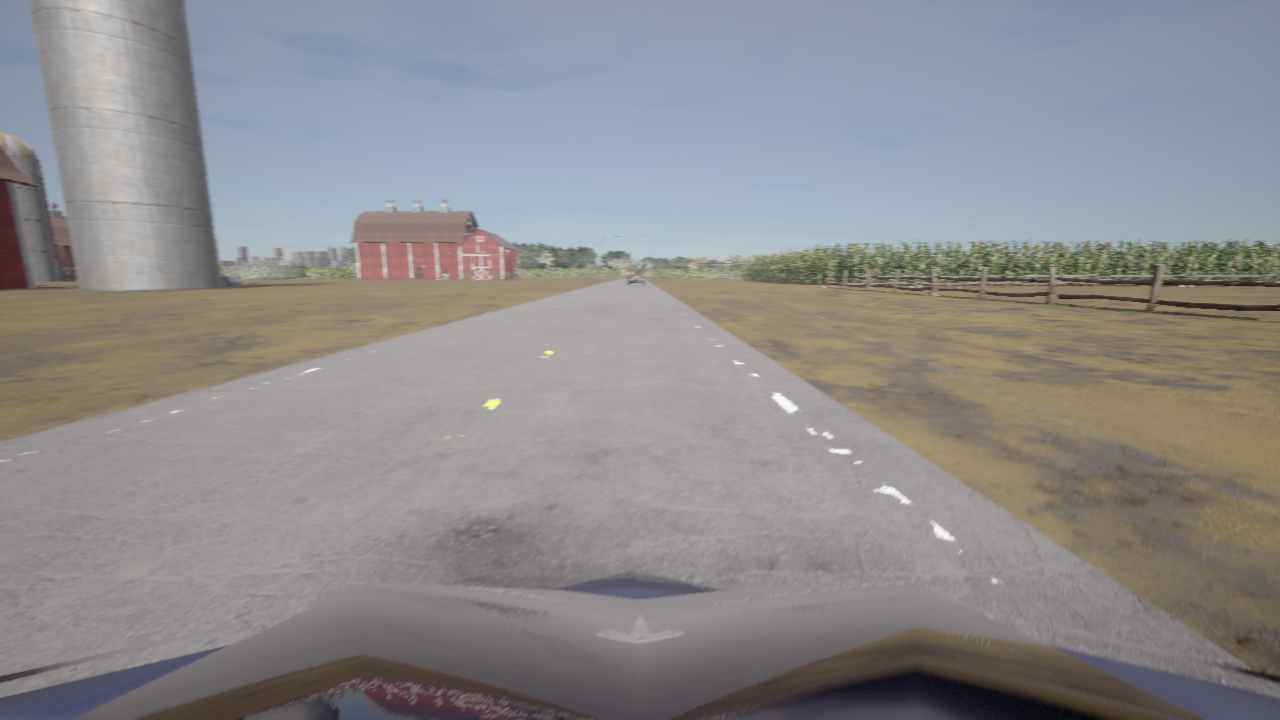cyclist: (0, 570, 1279, 719), (627, 270, 646, 285)
